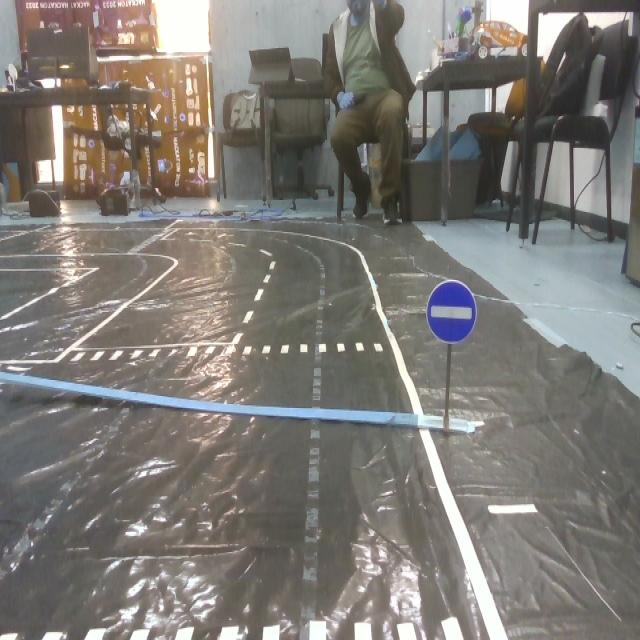dead_end: (431, 275, 485, 345)
